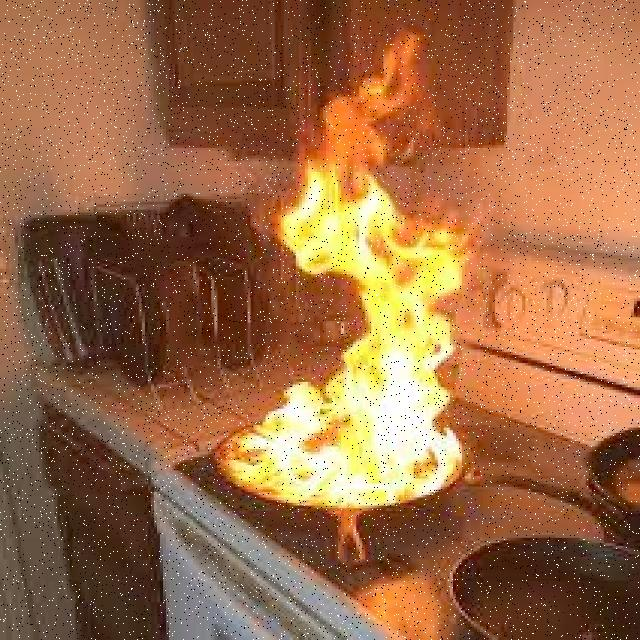fire: (226, 79, 468, 500)
